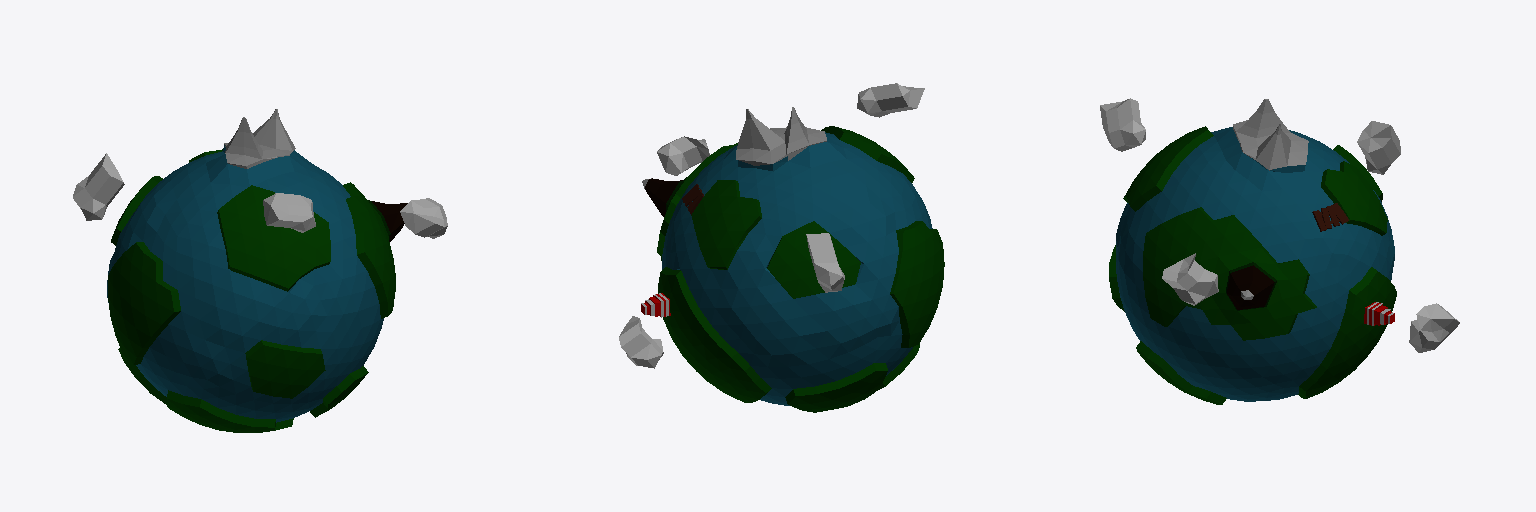
The model's file is earth.obj.
The picture shows the model from 3 angles: view 1: azimuth 30°, elevation 25°; view 2: azimuth 150°, elevation 25°; view 3: azimuth 270°, elevation 25°; orthographic projection.
Visible parts, largest first — view 1: Icosphere, Icosphere.004_Icosphere.005, Icosphere.001_Icosphere.002, Icosphere.002_Icosphere.003; view 2: Icosphere, Icosphere.001_Icosphere.002, Icosphere.004_Icosphere.005, Icosphere.003_Icosphere.004, Icosphere.002_Icosphere.003, Cube.001_Cube.004; view 3: Icosphere, Icosphere.001_Icosphere.002, Icosphere.002_Icosphere.003, Icosphere.004_Icosphere.005, Icosphere.003_Icosphere.004, Cube_Cube.003, Cube.001_Cube.004.
Part boxes in pixels (left/top/right/bottom): Icosphere: left=107, top=109, right=407, bottom=432; Icosphere.004_Icosphere.005: left=73, top=153, right=124, bottom=220; Icosphere.001_Icosphere.002: left=263, top=193, right=315, bottom=232; Icosphere.002_Icosphere.003: left=400, top=198, right=447, bottom=238; Icosphere: left=642, top=107, right=944, bottom=412; Icosphere.001_Icosphere.002: left=857, top=83, right=924, bottom=117; Icosphere.004_Icosphere.005: left=806, top=233, right=844, bottom=292; Icosphere.003_Icosphere.004: left=619, top=316, right=663, bottom=368; Icosphere.002_Icosphere.003: left=657, top=136, right=709, bottom=175; Cube.001_Cube.004: left=641, top=293, right=670, bottom=317; Icosphere: left=1109, top=99, right=1396, bottom=404; Icosphere.001_Icosphere.002: left=1100, top=98, right=1145, bottom=151; Icosphere.002_Icosphere.003: left=1162, top=253, right=1218, bottom=305; Icosphere.004_Icosphere.005: left=1357, top=121, right=1400, bottom=174; Icosphere.003_Icosphere.004: left=1409, top=303, right=1459, bottom=352; Cube_Cube.003: left=1312, top=203, right=1348, bottom=231; Cube.001_Cube.004: left=1364, top=302, right=1394, bottom=325.
Bounding box in the file's own units: 2.44 × 2.36 × 2.6.